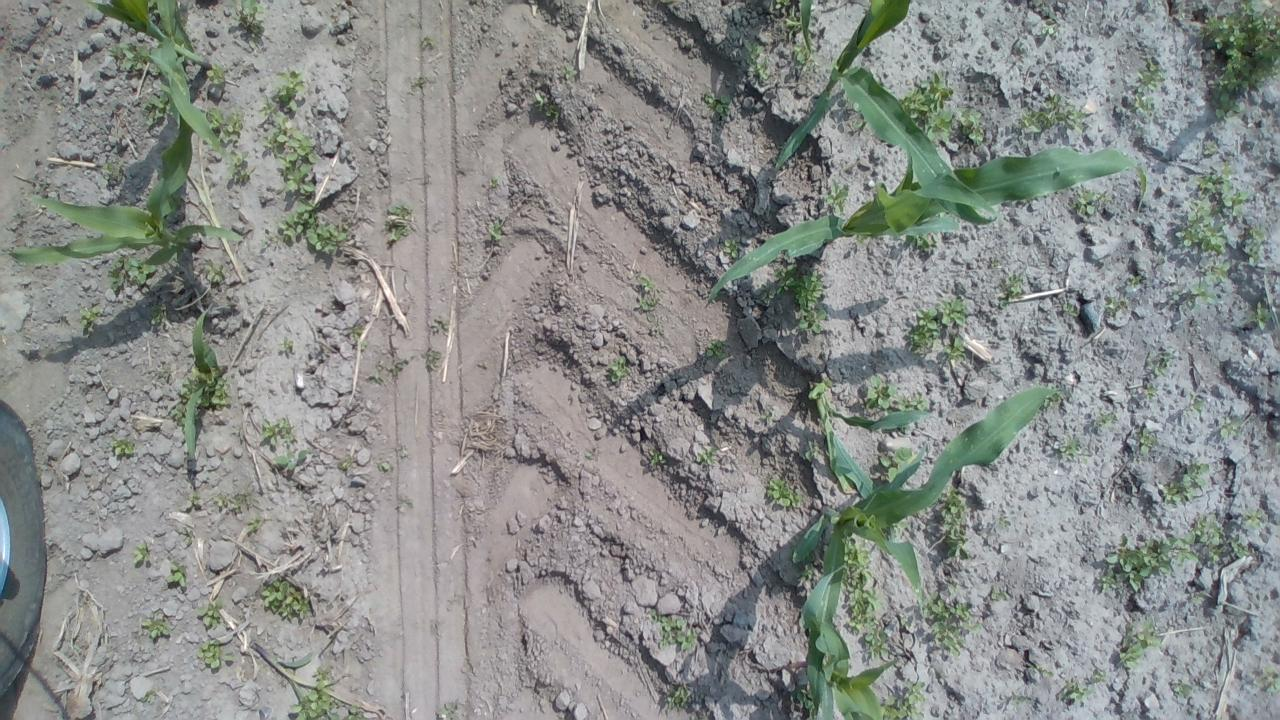Maize: (704, 146, 1148, 300), (792, 388, 1060, 602), (772, 0, 999, 228), (0, 120, 246, 267), (88, 0, 232, 153), (804, 378, 934, 502), (801, 567, 899, 720), (181, 307, 220, 462)
Weeds: (255, 65, 354, 260), (1199, 0, 1280, 118), (840, 536, 890, 661), (1096, 533, 1199, 592), (918, 591, 982, 657), (289, 667, 368, 720), (896, 70, 954, 142), (904, 297, 968, 361), (1016, 92, 1090, 134), (1198, 160, 1250, 219), (1175, 200, 1227, 256), (936, 486, 972, 560), (259, 578, 316, 621), (864, 376, 928, 413), (1119, 620, 1164, 672), (794, 270, 829, 334), (1158, 464, 1210, 506), (649, 608, 698, 652), (224, 0, 266, 49), (106, 254, 160, 291), (1132, 57, 1164, 118), (108, 41, 162, 76), (143, 78, 180, 129), (880, 680, 926, 720), (203, 105, 246, 146), (166, 375, 194, 435), (192, 638, 238, 672), (382, 200, 416, 244), (1168, 282, 1216, 312), (256, 417, 296, 450), (1069, 185, 1112, 214), (741, 38, 770, 81), (878, 446, 912, 482), (766, 478, 804, 509), (956, 104, 984, 146), (1192, 512, 1226, 546), (204, 373, 233, 412), (212, 488, 252, 514), (822, 176, 848, 216), (994, 274, 1024, 308), (796, 550, 825, 582), (1056, 681, 1096, 704), (222, 150, 250, 182), (1243, 226, 1266, 264), (703, 88, 734, 116), (368, 361, 404, 385), (270, 450, 311, 471), (772, 264, 798, 296), (195, 599, 224, 626), (1057, 438, 1087, 464), (142, 614, 174, 638), (533, 92, 562, 118), (790, 43, 816, 72), (796, 688, 818, 720), (607, 355, 632, 382), (1256, 664, 1280, 692), (78, 305, 104, 330), (664, 685, 690, 710), (1248, 305, 1273, 331), (164, 560, 188, 587), (1135, 428, 1158, 456), (1147, 351, 1171, 377), (1206, 260, 1232, 284), (101, 158, 128, 181), (906, 232, 936, 252), (206, 62, 228, 87), (484, 218, 506, 242), (704, 339, 728, 361), (1218, 418, 1242, 439), (108, 437, 137, 454), (722, 238, 742, 262), (1029, 662, 1055, 680), (1173, 681, 1197, 700), (1104, 296, 1128, 315), (1041, 386, 1062, 407), (150, 303, 168, 327), (1040, 12, 1058, 36), (757, 283, 775, 306), (351, 326, 368, 350), (849, 103, 864, 130), (800, 440, 820, 460), (206, 262, 224, 284), (132, 544, 150, 566), (1244, 510, 1266, 528), (638, 298, 656, 320), (1230, 538, 1250, 557), (783, 10, 801, 31), (990, 584, 1010, 602), (1095, 410, 1116, 426), (696, 448, 716, 464), (424, 352, 442, 369), (558, 63, 578, 78), (1144, 382, 1160, 400), (248, 513, 264, 530), (440, 703, 456, 720), (649, 451, 667, 466), (639, 275, 657, 290), (1203, 140, 1219, 156), (1062, 303, 1080, 317), (1126, 274, 1143, 288), (430, 321, 449, 333), (946, 578, 961, 593), (142, 688, 156, 704), (1210, 546, 1224, 562), (422, 34, 438, 48), (1190, 397, 1202, 415), (180, 526, 192, 544), (187, 493, 203, 506), (488, 176, 502, 190), (339, 455, 353, 469), (278, 337, 294, 349), (760, 411, 775, 423), (378, 462, 392, 474), (1092, 670, 1106, 682), (851, 234, 866, 245), (412, 77, 423, 91), (774, 0, 790, 9), (998, 516, 1008, 530), (901, 615, 911, 628), (1012, 694, 1025, 704), (894, 521, 908, 530), (900, 422, 909, 434), (1194, 594, 1202, 605), (1271, 441, 1280, 448), (1032, 0, 1042, 6)
